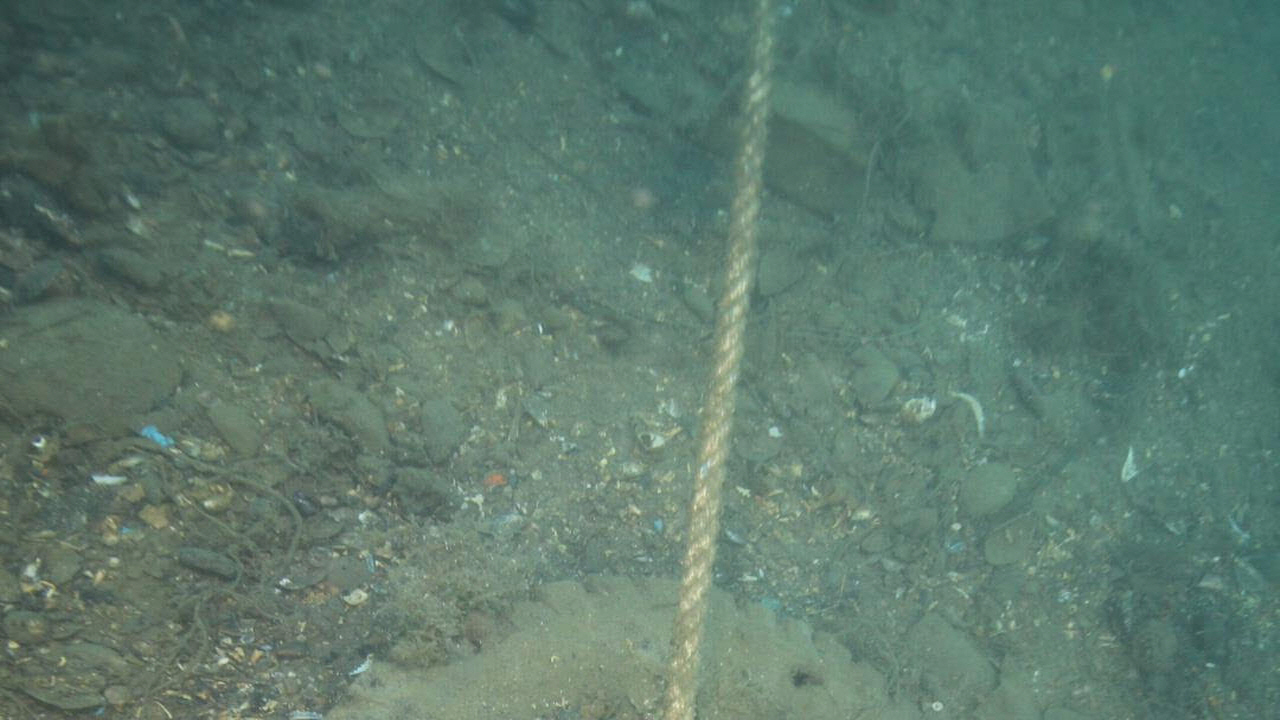rope: (659, 0, 781, 720)
